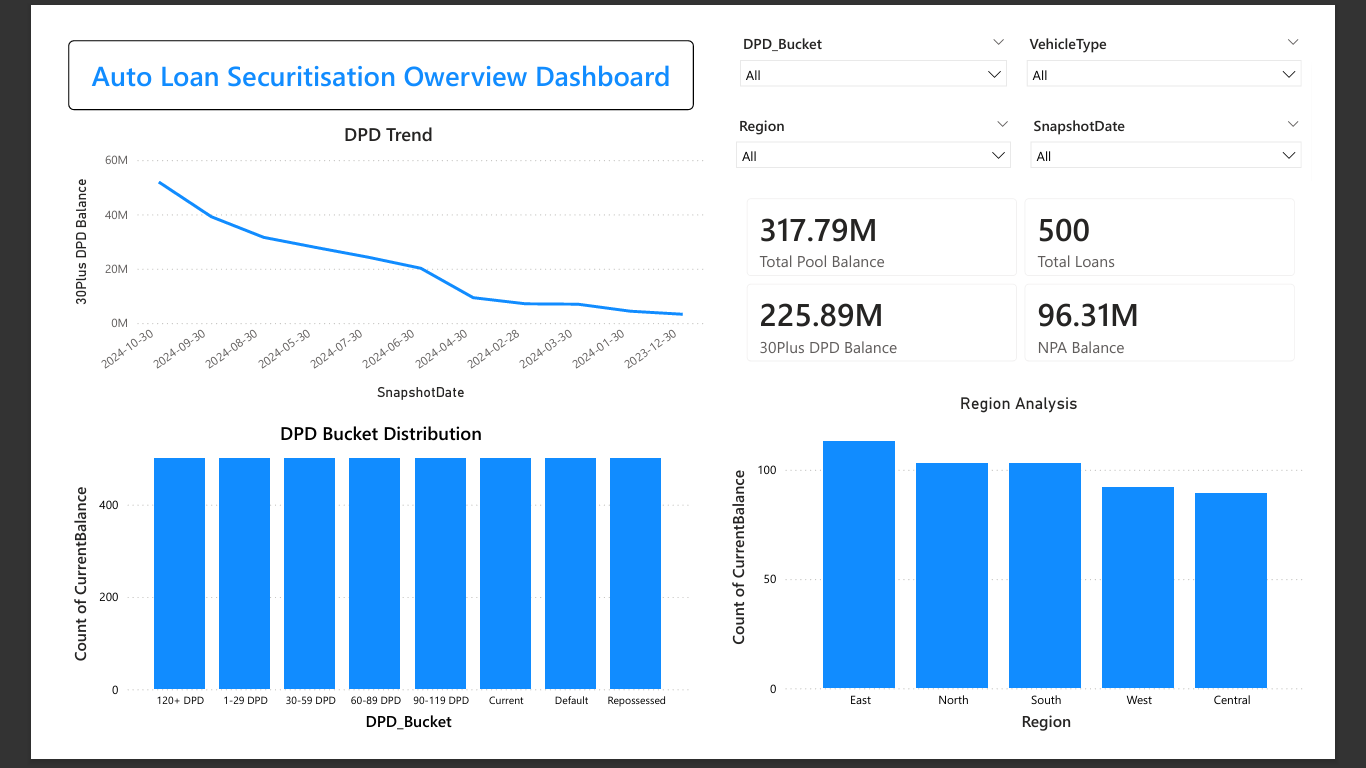

What the dashboard file says about the page in this screenshot:
{"tool":"powerbi","page":{"name":"Auto Loan Securitisation Dashboards","canvas":[1280,720],"ordinal":0},"visuals":[{"type":"shape","box":[13.8,12.4,637.2,70.2],"z":0},{"type":"cardVisual","fields":{"Data":["projects dim_date.Total Pool Balance","projects dim_date.Total Loans","projects dim_date.30Plus DPD Balance","projects dim_date.NPA Balance"]},"box":[688.2,155.5,591.8,200.9],"z":1000},{"type":"lineChart","title":"DPD Trend","fields":{"Category":["projects fact_loan_performance.SnapshotDate"],"Y":["projects dim_date.30Plus DPD Balance"]},"box":[13.8,95,652.4,287.7],"z":2000},{"type":"columnChart","title":"Region Analysis","fields":{"Y":["CountNonNull(projects dim_loans.CurrentBalance)"],"Category":["projects dim_loans.Region"]},"box":[684,371.6,596,348.2],"z":3000},{"type":"columnChart","title":"DPD Bucket Distribution","fields":{"Category":["projects fact_loan_performance.DPD_Bucket"],"Y":["CountNonNull(projects dim_loans.CurrentBalance)"]},"box":[13.8,399.1,637.2,320.7],"z":4000},{"type":"slicer","fields":{"Values":["projects fact_loan_performance.DPD_Bucket"]},"box":[688.2,0,291.8,63.3],"z":5000},{"type":"slicer","fields":{"Values":["projects fact_loan_performance.SnapshotDate"]},"box":[984.1,82.6,295.9,72.9],"z":6000},{"type":"slicer","fields":{"Values":["projects dim_loans.Region"]},"box":[684,82.6,300,60.6],"z":7000},{"type":"slicer","fields":{"Values":["projects dim_loans.VehicleType"]},"box":[980,0,300,63.3],"z":8000}]}

Visuals, with their boxes in screenshot pixels (x1, y1, x2, y2), scaled from the page's 1280x720 canvas onto the 1366x768 screenshot:
shape: x1=15, y1=13, x2=695, y2=88
cardVisual - projects dim_date.Total Pool Balance x projects dim_date.Total Loans: x1=734, y1=166, x2=1365, y2=380
"DPD Trend" lineChart: x1=15, y1=101, x2=711, y2=408
"Region Analysis" columnChart: x1=730, y1=396, x2=1365, y2=767
"DPD Bucket Distribution" columnChart: x1=15, y1=426, x2=695, y2=767
slicer - projects fact_loan_performance.DPD_Bucket: x1=734, y1=0, x2=1046, y2=68
slicer - projects fact_loan_performance.SnapshotDate: x1=1050, y1=88, x2=1365, y2=166
slicer - projects dim_loans.Region: x1=730, y1=88, x2=1050, y2=153
slicer - projects dim_loans.VehicleType: x1=1046, y1=0, x2=1365, y2=68
